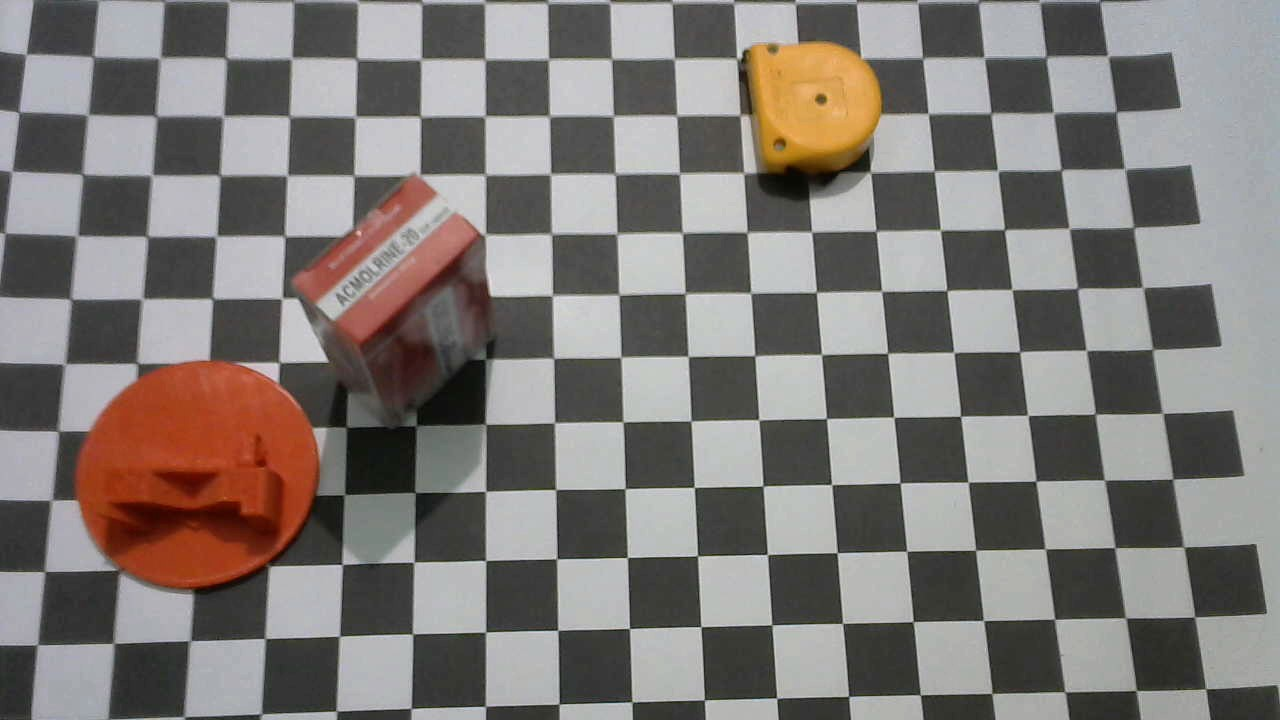blue: (744, 38, 881, 182)
green: (76, 359, 327, 593)
red: (292, 177, 503, 428)
